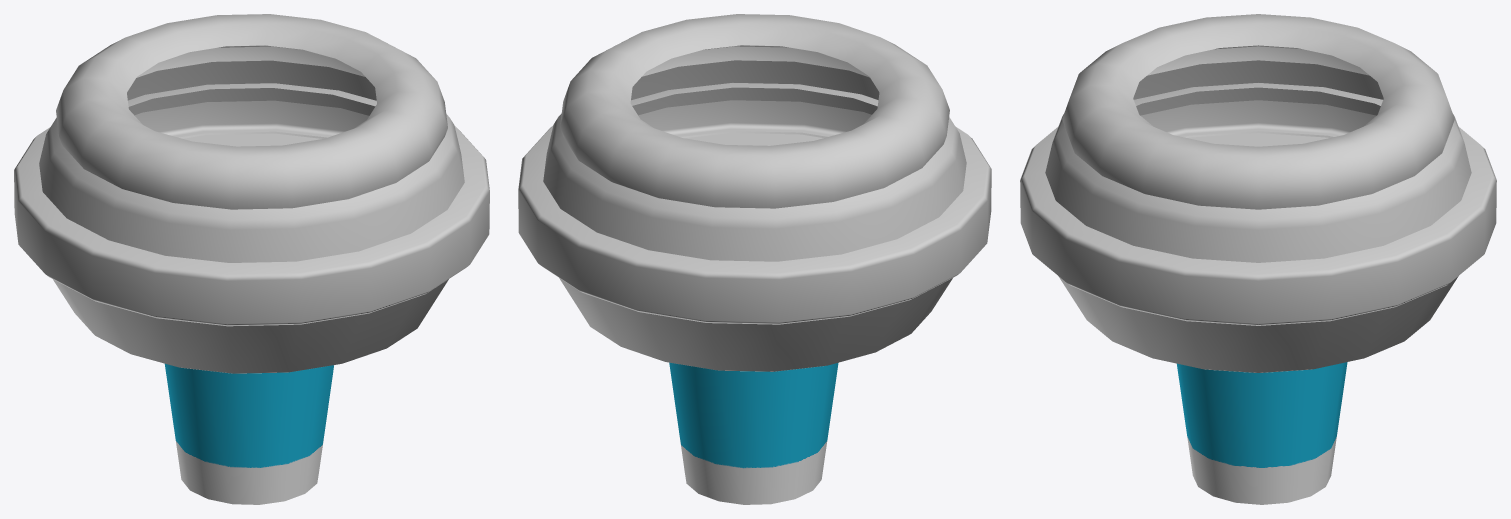
Rendered from trampoline_4_001.fbx.
3 views of the same model, side by side, from view 1: azimuth 30°, elevation 25°; view 2: azimuth 150°, elevation 25°; view 3: azimuth 270°, elevation 25° (orthographic).
Parts seen in each view (by area): view 1: trampoline_4_001; view 2: trampoline_4_001; view 3: trampoline_4_001.
Part boxes in pixels (box(x1,y1,x2,y2)): trampoline_4_001: box(14, 14, 489, 504); trampoline_4_001: box(518, 14, 991, 504); trampoline_4_001: box(1020, 14, 1496, 504).
Size of the model in its own units: 266 by 266 by 240.
